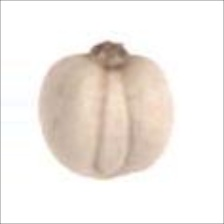L5: (93, 69, 131, 178), (84, 39, 138, 72)
L6: (35, 39, 175, 181)
